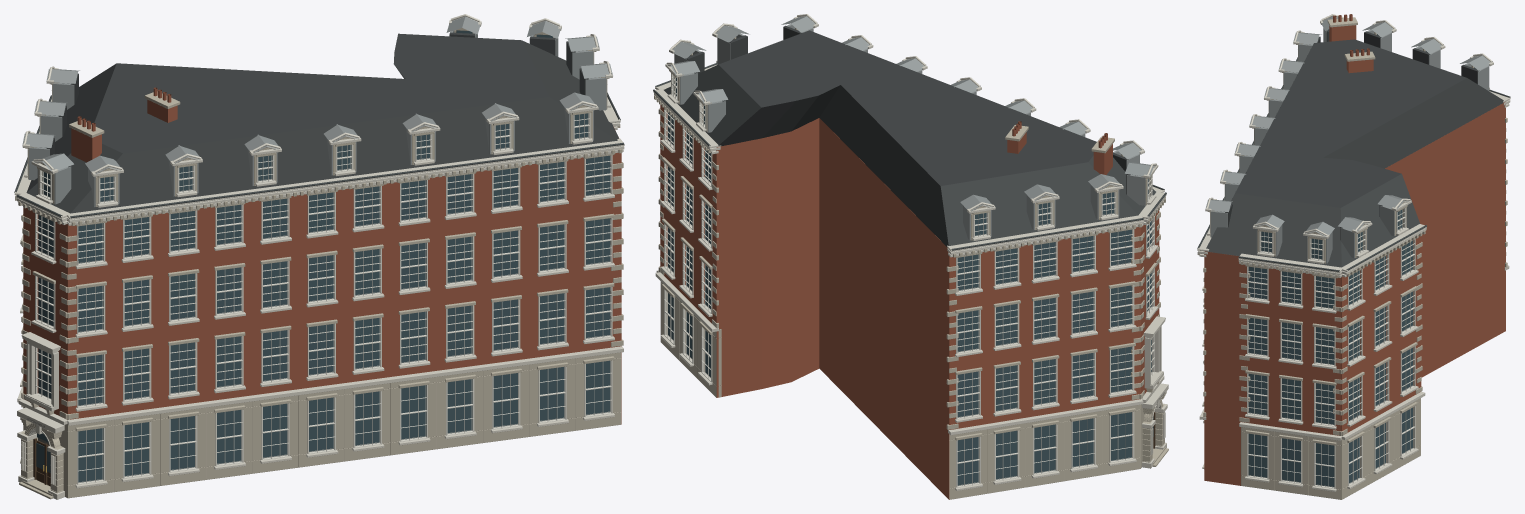
The model's file is cow-exterior-a1af7e4d9367.glb.
3 views of the same model, side by side, from view 1: azimuth 30°, elevation 25°; view 2: azimuth 150°, elevation 25°; view 3: azimuth 270°, elevation 25° (orthographic). The views are drawn at different scales.
Parts seen in each view (by area): view 1: COW.001; view 2: COW.001; view 3: COW.001.
Boxes of the visible parts, left/top/right/bottom form: COW.001: left=14, top=14, right=624, bottom=499; COW.001: left=653, top=14, right=1168, bottom=499; COW.001: left=1197, top=14, right=1510, bottom=499.
Bounding box in the file's own units: 38.05 × 22.48 × 22.3.
